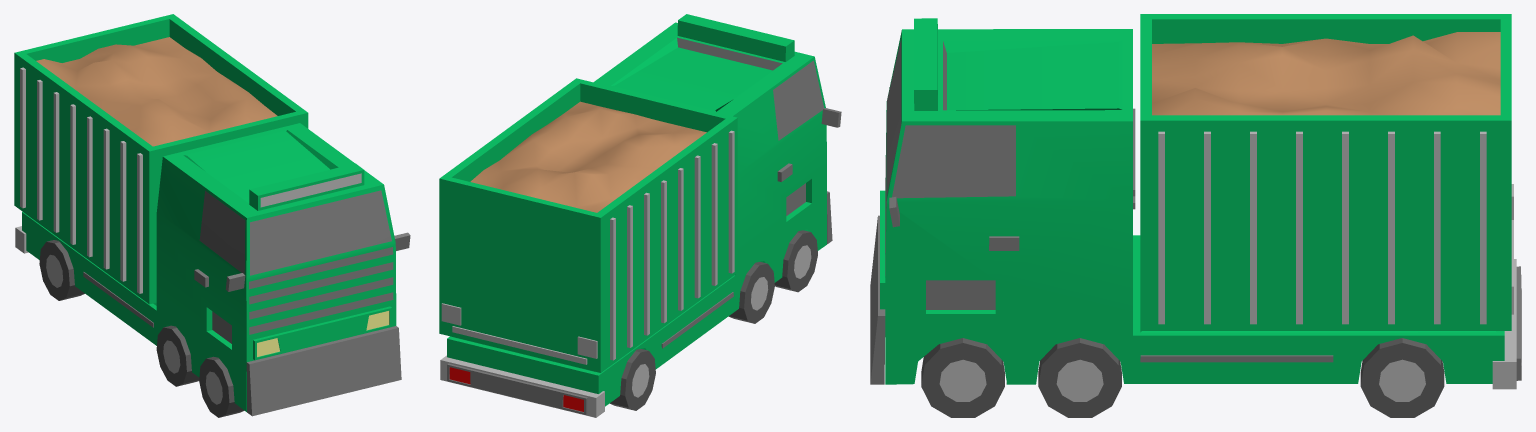
The model's file is SM_Truck_02_03.FBX.
The picture shows the model from 3 angles, left to right: view 1: azimuth 30°, elevation 25°; view 2: azimuth 150°, elevation 25°; view 3: azimuth 270°, elevation 25°; orthographic projection. The views are drawn at different scales.
Parts seen in each view (by area): view 1: SM_Truck_02_03, SM_Wheel_RBack, SM_Wheel_RFront, SM_Wheel_RMid; view 2: SM_Truck_02_03, SM_Wheel_RMid, SM_Wheel_RBack, SM_Wheel_RFront; view 3: SM_Truck_02_03, SM_Wheel_LFront001, SM_Wheel_LBack, SM_Wheel_LMid.
Boxes of the visible parts, x1,y1,x2,y2 form: SM_Truck_02_03: (14, 14, 410, 416); SM_Wheel_RBack: (39, 240, 84, 300); SM_Wheel_RFront: (199, 356, 244, 417); SM_Wheel_RMid: (156, 325, 199, 386); SM_Truck_02_03: (439, 14, 841, 417); SM_Wheel_RMid: (728, 262, 774, 323); SM_Wheel_RBack: (610, 349, 655, 410); SM_Wheel_RFront: (774, 230, 817, 292); SM_Truck_02_03: (870, 14, 1521, 389); SM_Wheel_LFront001: (921, 338, 1004, 417); SM_Wheel_LBack: (1360, 338, 1444, 417); SM_Wheel_LMid: (1038, 338, 1121, 417).
Size of the model in its own units: 1.85 by 2.21 by 4.19.
1 material, 1 textured.
